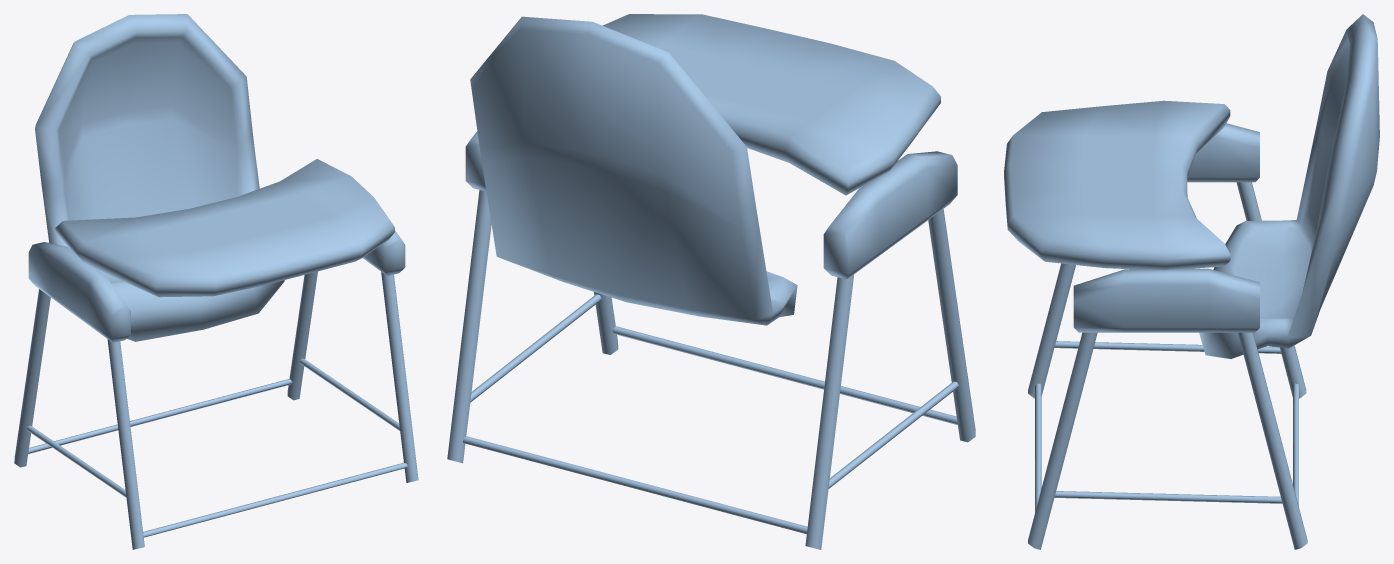
Rendered from cadeira.fbx.
3 views of the same model, side by side, from view 1: azimuth 30°, elevation 25°; view 2: azimuth 150°, elevation 25°; view 3: azimuth 270°, elevation 25° (orthographic). The views are drawn at different scales.
Parts seen in each view (by area): view 1: Plane; view 2: Plane; view 3: Plane.
Part boxes in pixels (bbox=[...]): Plane: bbox=[14, 14, 418, 549]; Plane: bbox=[447, 14, 975, 549]; Plane: bbox=[1004, 14, 1379, 549].
Size of the model in its own units: 0.7712 by 0.9885 by 0.7616.
